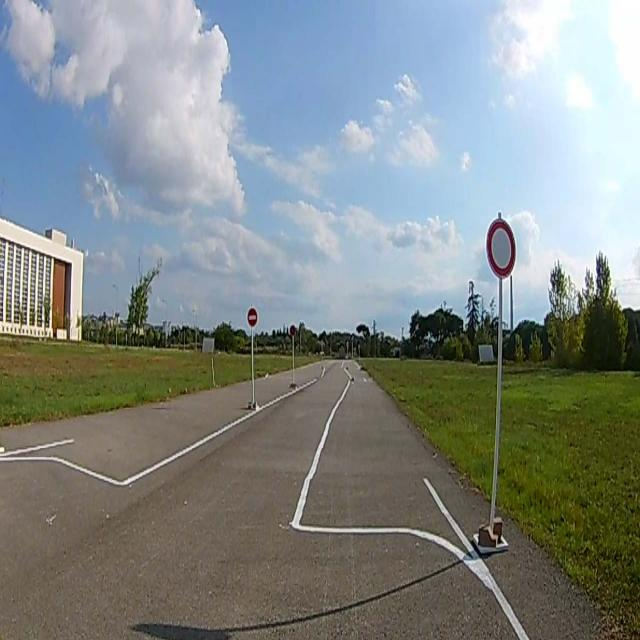girisyok: (248, 309, 258, 327)
